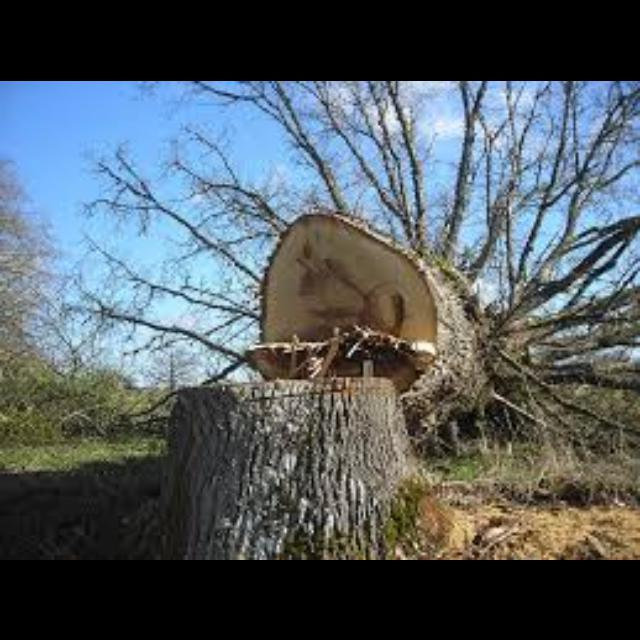Fallen Tree: (253, 205, 529, 398)
